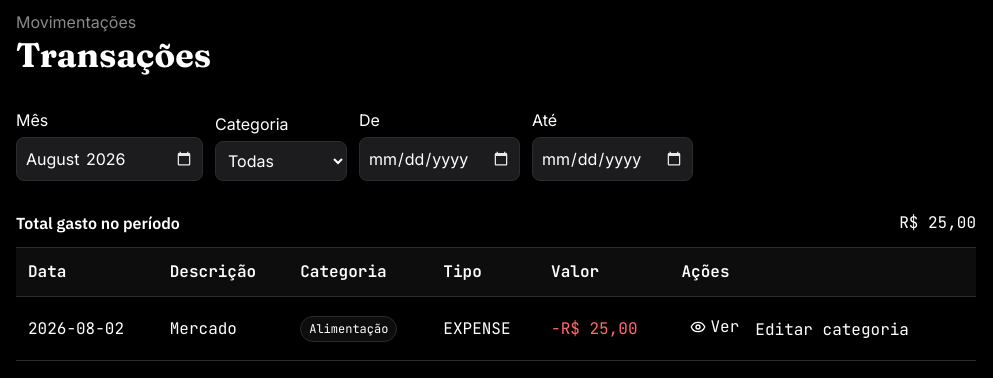
TransactionsPage › guides the user to complete a partial custom range instead of loading forever
expect the table is shown: met, box [16, 248, 976, 361]
Type "2026-08-01" into the date field labelled "De" at x=440, y=159, box [359, 137, 520, 181]
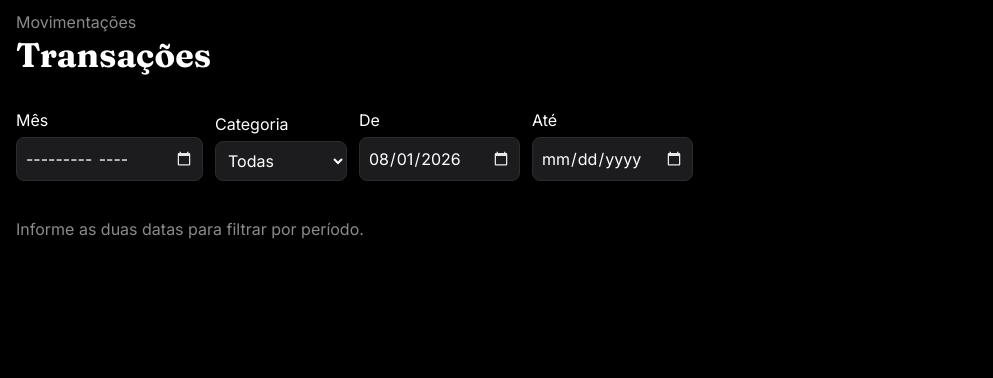
expect the text "Informe as duas datas para filtrar por período." is shown: met, box [16, 219, 364, 239]
